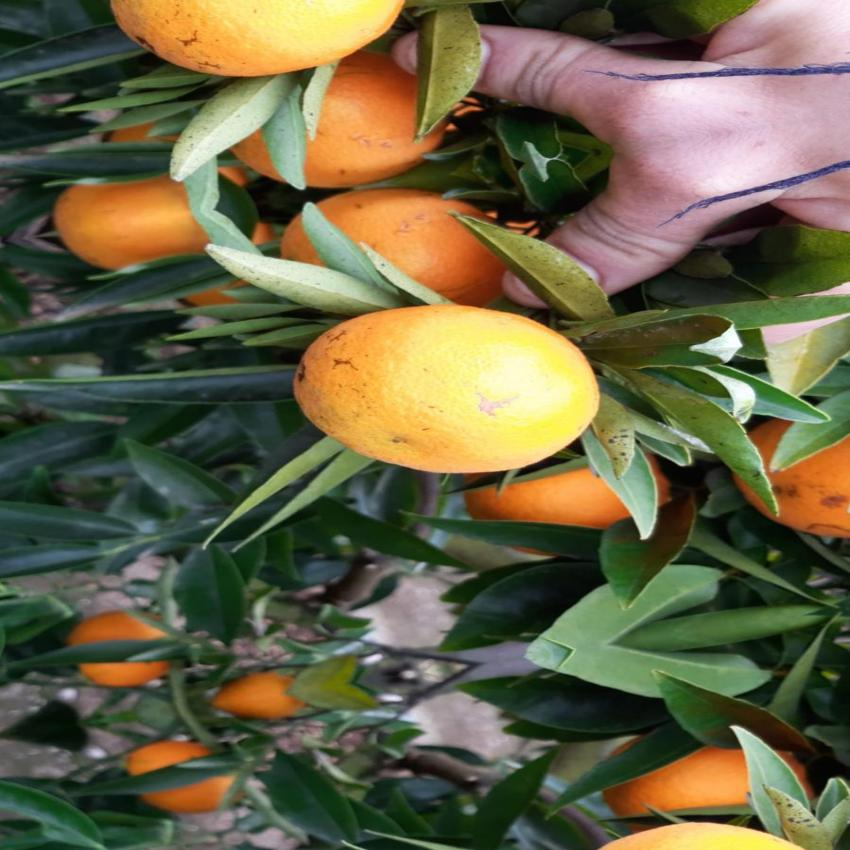Mal estado: (280, 301, 616, 475), (212, 48, 450, 195), (278, 186, 512, 317), (96, 0, 413, 86), (725, 402, 850, 538)
